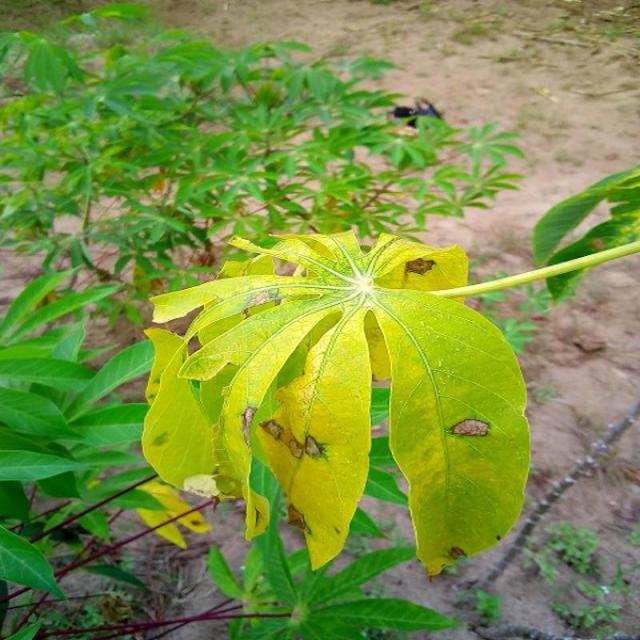cassava leaf: (141, 226, 532, 579), (380, 286, 533, 578), (252, 305, 374, 571)
